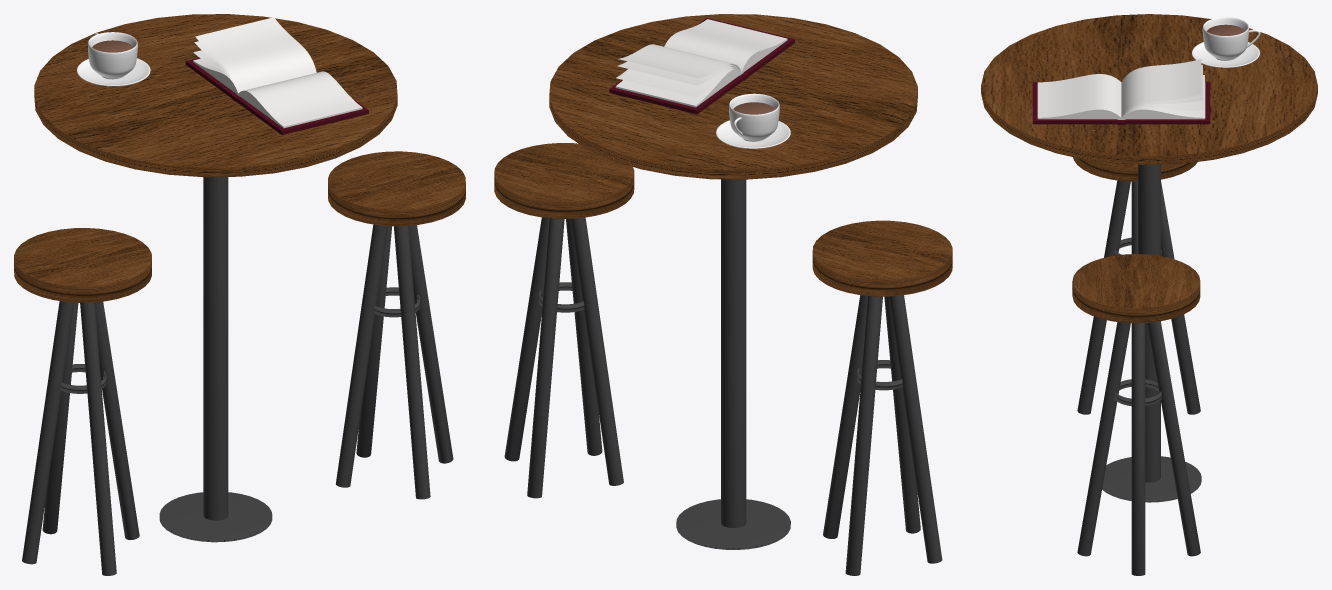
File: coffee.glb
3 renders of one model, left to right at view 1: azimuth 30°, elevation 25°; view 2: azimuth 150°, elevation 25°; view 3: azimuth 270°, elevation 25°, orthographic. The views are drawn at different scales.
Parts seen in each view (by area): view 1: Cylinder.001, BezierCurve.001, Cylinder.002, Cylinder.006, Cylinder.009, Cylinder.004, Cylinder.008, Cylinder.010, Cylinder.007, Cylinder.003, cup, Cube (+1 smaller); view 2: Cylinder.001, Cylinder.002, Cylinder.009, Cylinder.006, BezierCurve.001, Cylinder.004, Cylinder.008, Cylinder.010, Cylinder.007, Cylinder.003, Cube, cup (+1 smaller); view 3: Cylinder.001, BezierCurve.001, Cylinder.006, Cylinder.007, Cylinder.010, Cylinder.002, Cylinder.004, Cylinder.003, Cube, cup, Cylinder.009, sara (+2 smaller).
Part boxes in pixels (box(x1,y1,x2,y2)): Cylinder.001: box(34, 14, 397, 177); BezierCurve.001: box(193, 17, 362, 128); Cylinder.002: box(203, 177, 228, 520); Cylinder.006: box(328, 151, 465, 226); Cylinder.009: box(14, 228, 151, 302); Cylinder.004: box(336, 224, 453, 487); Cylinder.008: box(22, 301, 139, 564); Cylinder.010: box(42, 302, 116, 575); Cylinder.007: box(356, 226, 430, 499); Cylinder.003: box(159, 492, 272, 542); cup: box(88, 32, 137, 79); Cube: box(185, 57, 368, 134); Cylinder.001: box(549, 14, 917, 179); Cylinder.002: box(721, 179, 746, 527); Cylinder.009: box(812, 220, 952, 296); Cylinder.006: box(494, 143, 634, 218); BezierCurve.001: box(615, 19, 787, 107); Cylinder.004: box(504, 217, 623, 485); Cylinder.008: box(823, 295, 942, 563); Cylinder.010: box(845, 296, 920, 575); Cylinder.007: box(527, 218, 602, 498); Cylinder.003: box(676, 499, 790, 549); Cube: box(609, 18, 794, 114); cup: box(729, 93, 779, 141); Cylinder.001: box(981, 14, 1317, 165); BezierCurve.001: box(1037, 59, 1205, 119); Cylinder.006: box(1072, 254, 1200, 323); Cylinder.007: box(1077, 321, 1200, 556); Cylinder.010: box(1077, 180, 1200, 414); Cylinder.002: box(1138, 164, 1160, 482); Cylinder.004: box(1131, 323, 1145, 575); Cylinder.003: box(1102, 456, 1201, 502); Cube: box(1032, 82, 1210, 124); cup: box(1202, 17, 1248, 60); Cylinder.009: box(1073, 157, 1197, 181); sara: box(1192, 42, 1259, 67).
Bounding box in the file's own units: 2.41 × 2.45 × 1.75.
8 materials, 2 textured.
